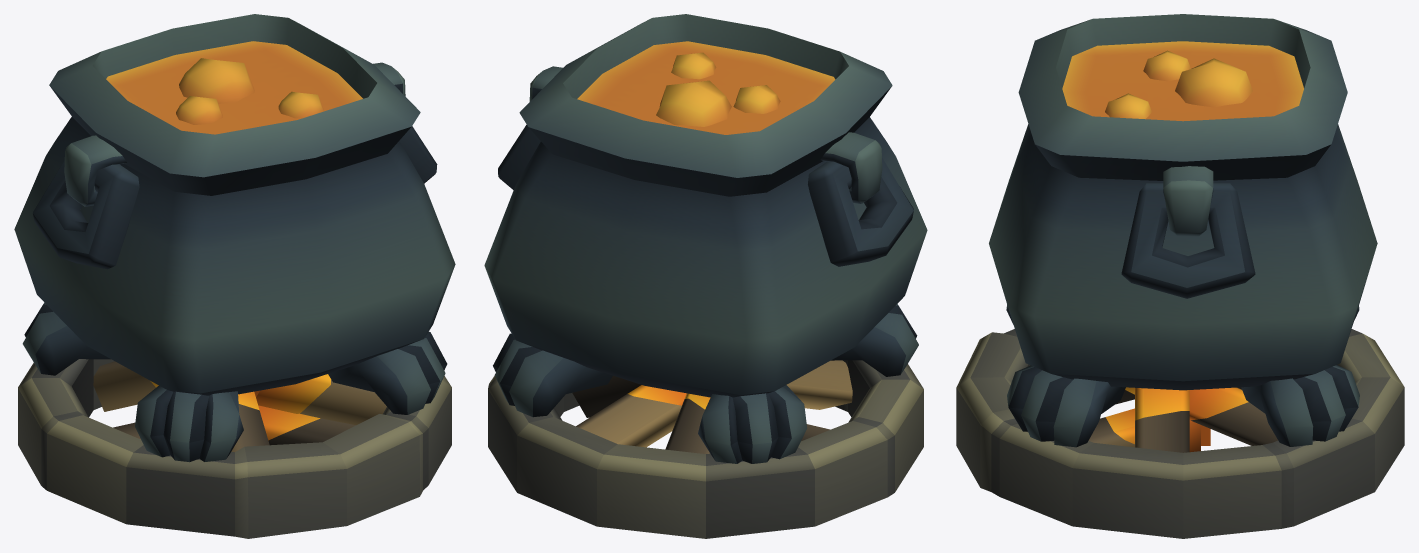
File: fire_pit_pot_soup.fbx
3 renders of one model, left to right at view 1: azimuth 30°, elevation 25°; view 2: azimuth 150°, elevation 25°; view 3: azimuth 270°, elevation 25°, orthographic.
Parts seen in each view (by area): view 1: fire_pit_pot_soup; view 2: fire_pit_pot_soup; view 3: fire_pit_pot_soup.
Part boxes in pixels (box(x1,y1,x2,y2)): fire_pit_pot_soup: box(14, 14, 455, 538); fire_pit_pot_soup: box(484, 14, 927, 538); fire_pit_pot_soup: box(956, 14, 1404, 538).
Size of the model in its own units: 102 by 96.82 by 103.
